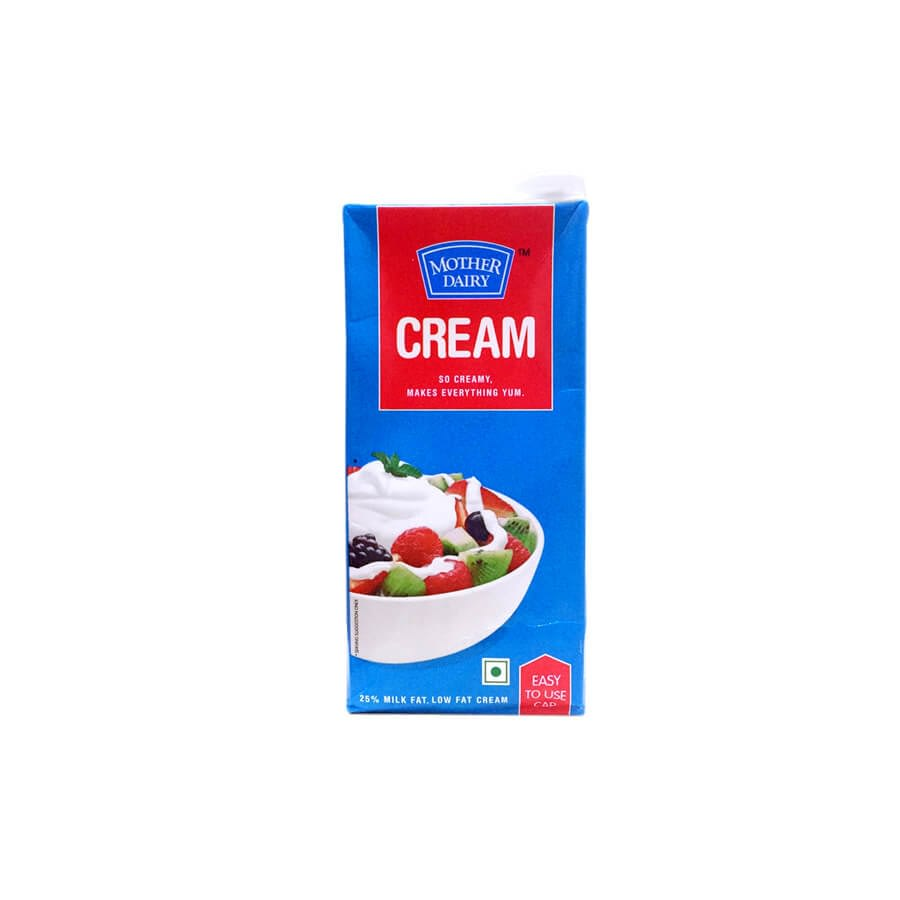Mother_Dairy: (401, 236, 535, 309)
